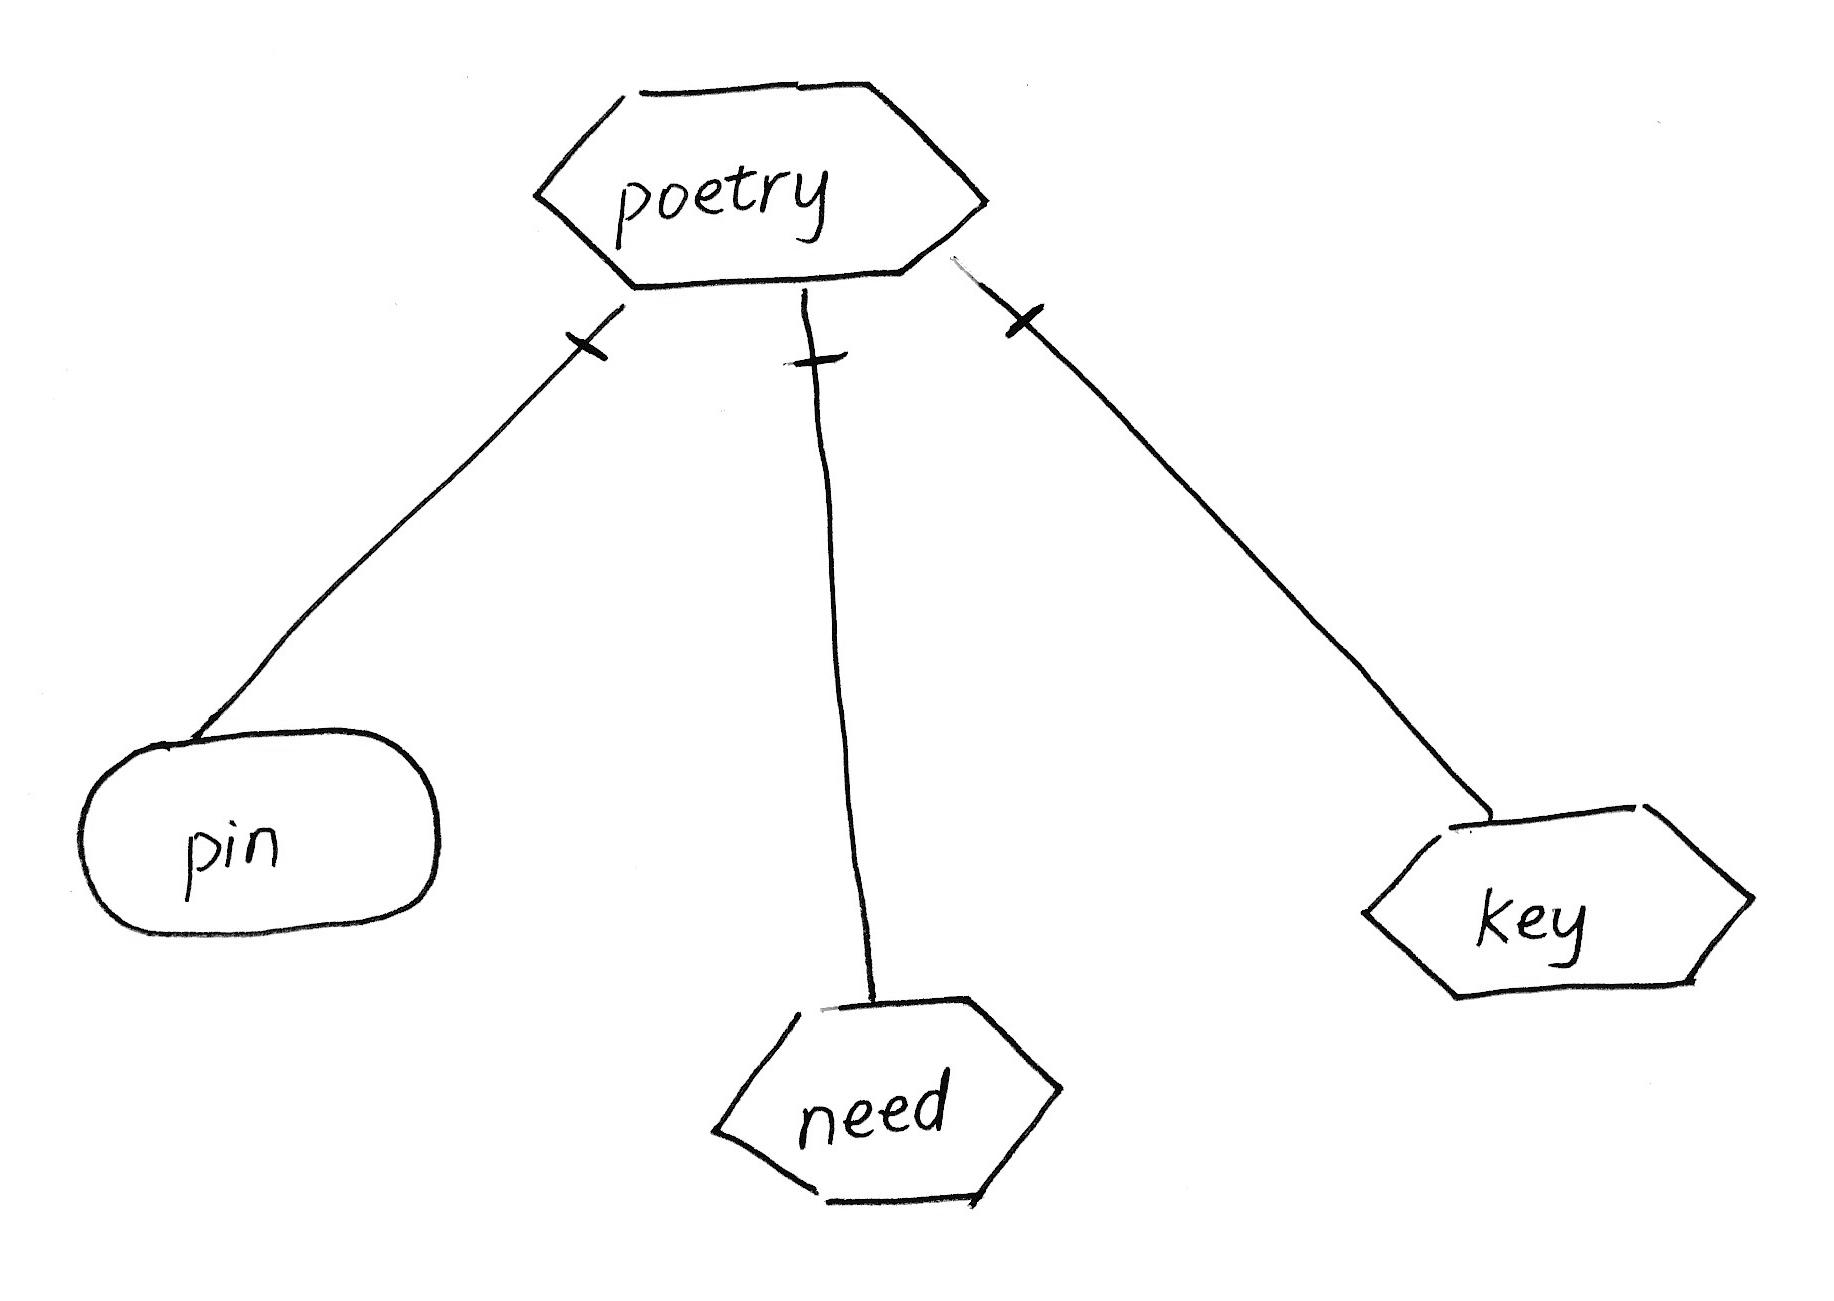and: (946, 239, 1063, 346), (776, 277, 856, 384), (555, 293, 632, 370)
goal: (56, 710, 460, 953)
task: (514, 56, 1004, 303), (1350, 788, 1771, 1021), (695, 974, 1078, 1224)
